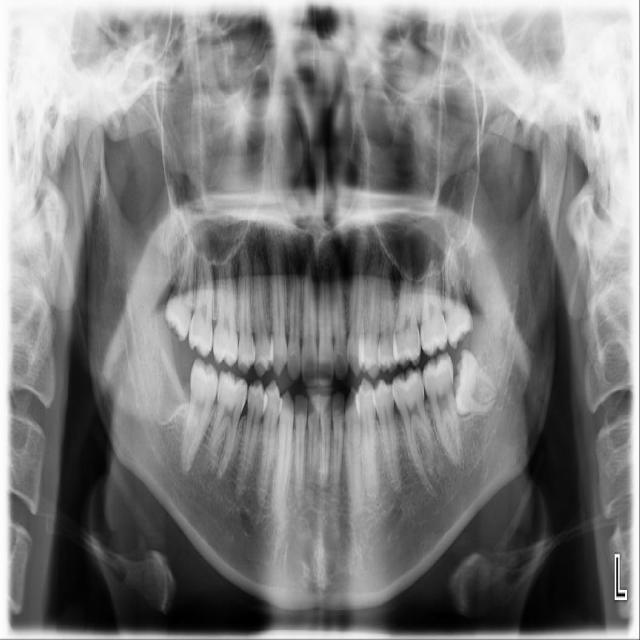3M ESPE Implant: (165, 229, 196, 344)
73: (605, 574, 613, 590)
BioHorizons Implant: (420, 260, 448, 354)
BioLife Implant: (435, 239, 476, 350)
Biomet 3i Implant: (452, 348, 499, 418)
Blue Sky Bio Implant: (420, 353, 465, 468)
Caries: (187, 247, 219, 359)
Implant: (175, 358, 222, 475)
